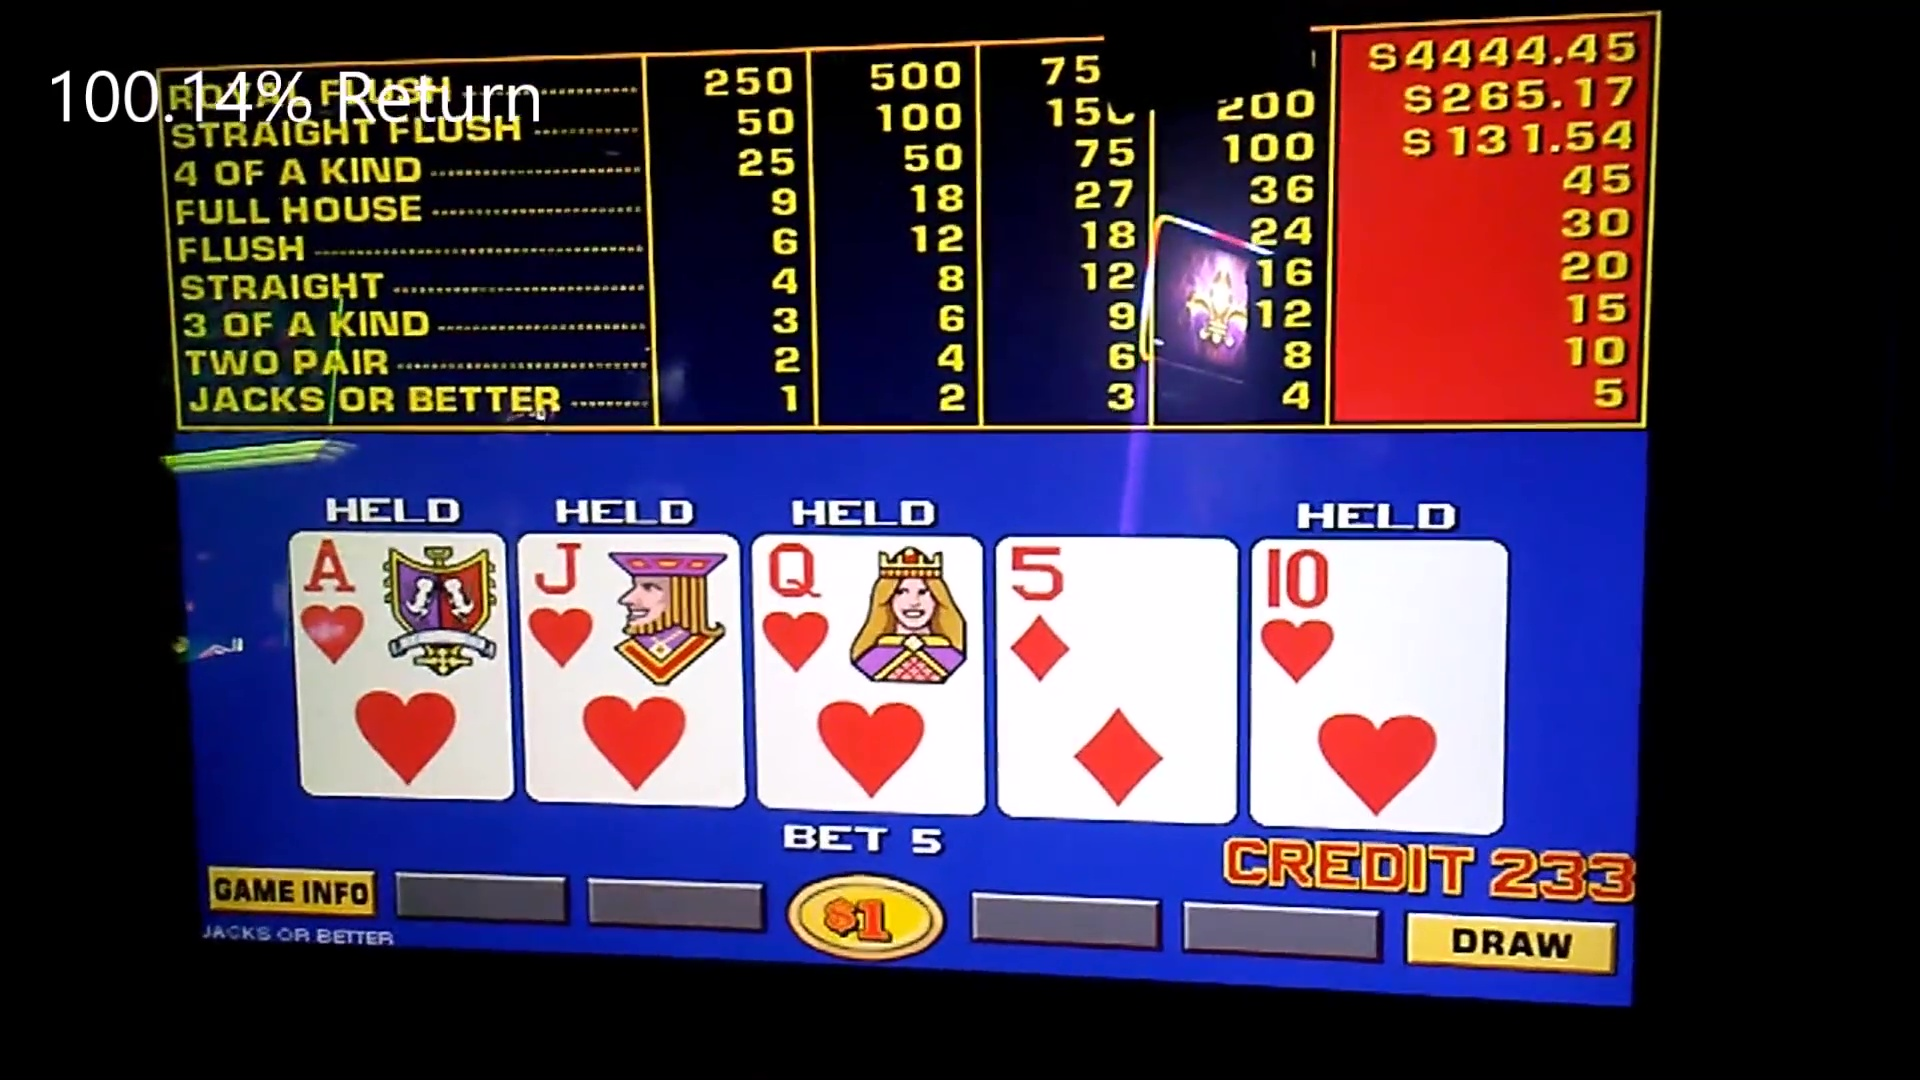D5: (1000, 541, 1237, 680)
HA: (301, 530, 505, 665)
HJ: (522, 534, 742, 670)
HQ: (756, 535, 976, 671)
HT: (1254, 543, 1501, 684)
